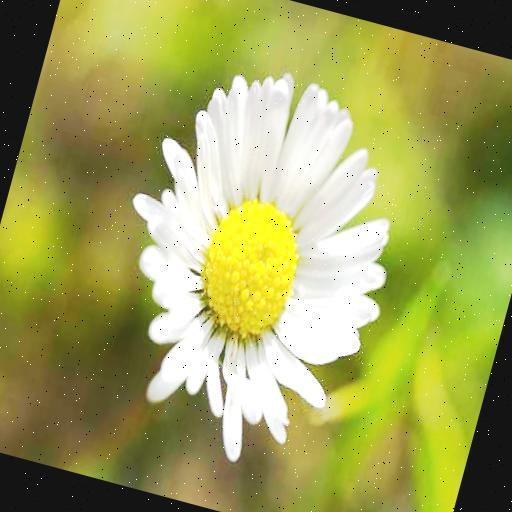daisy: (93, 59, 424, 456)
